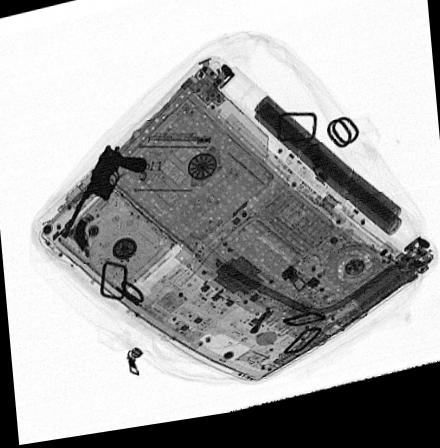Gun: (59, 148, 148, 238)
